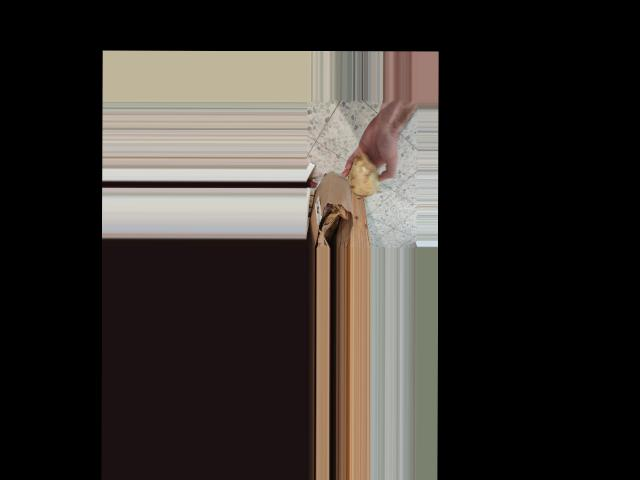onion: (347, 152, 381, 200)
